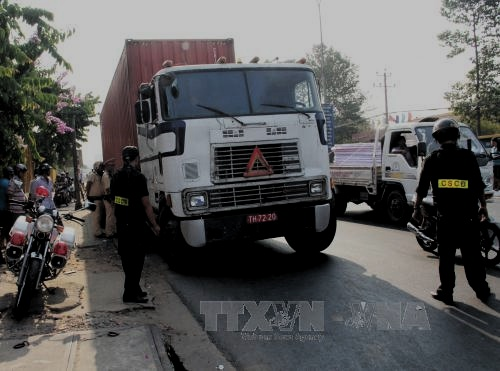plate: (244, 211, 279, 228)
